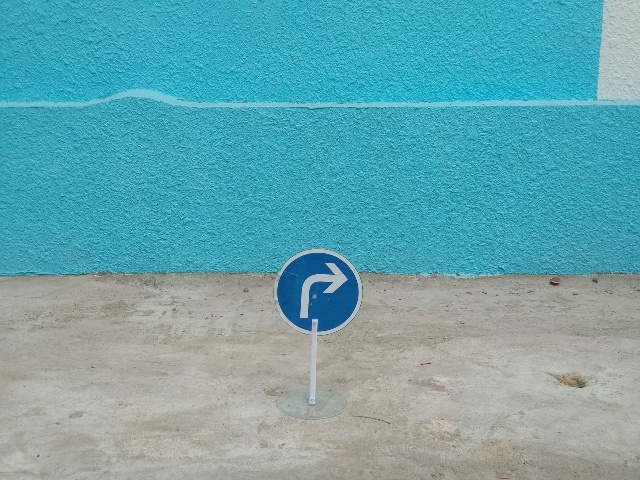Right_Sign: (275, 248, 362, 337)
